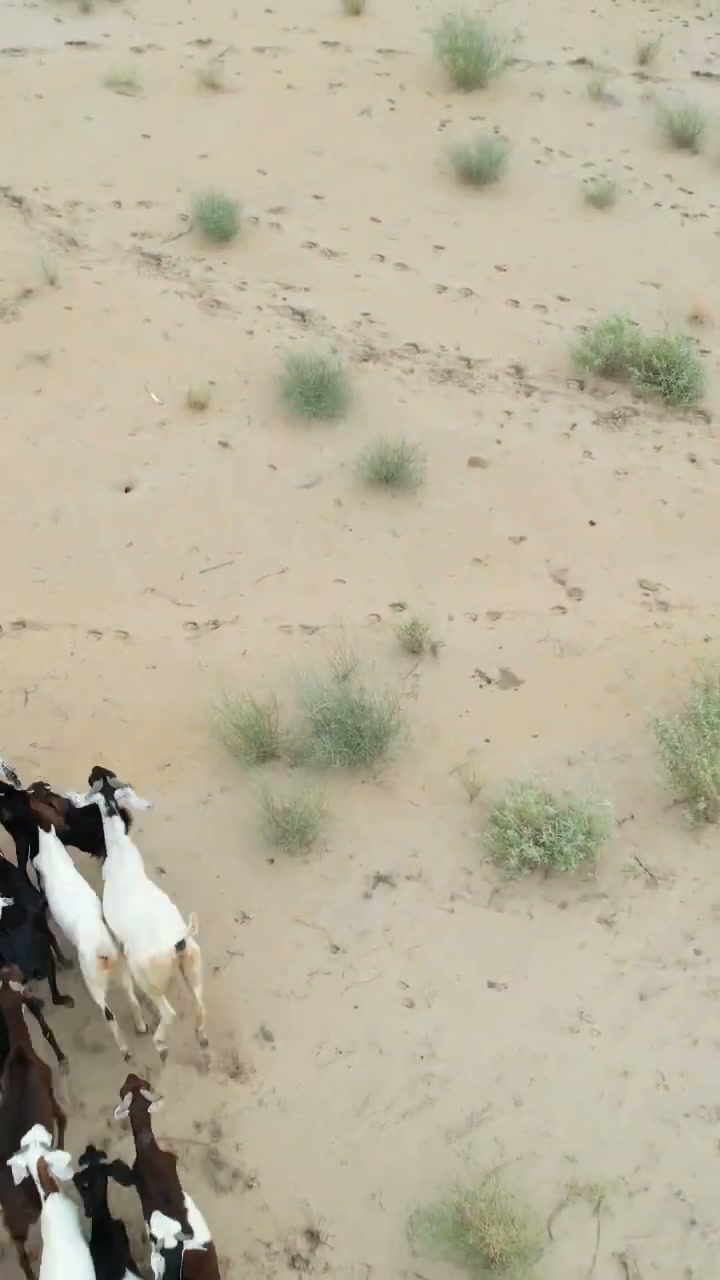animal_foot_print: (103, 997, 279, 1277)
